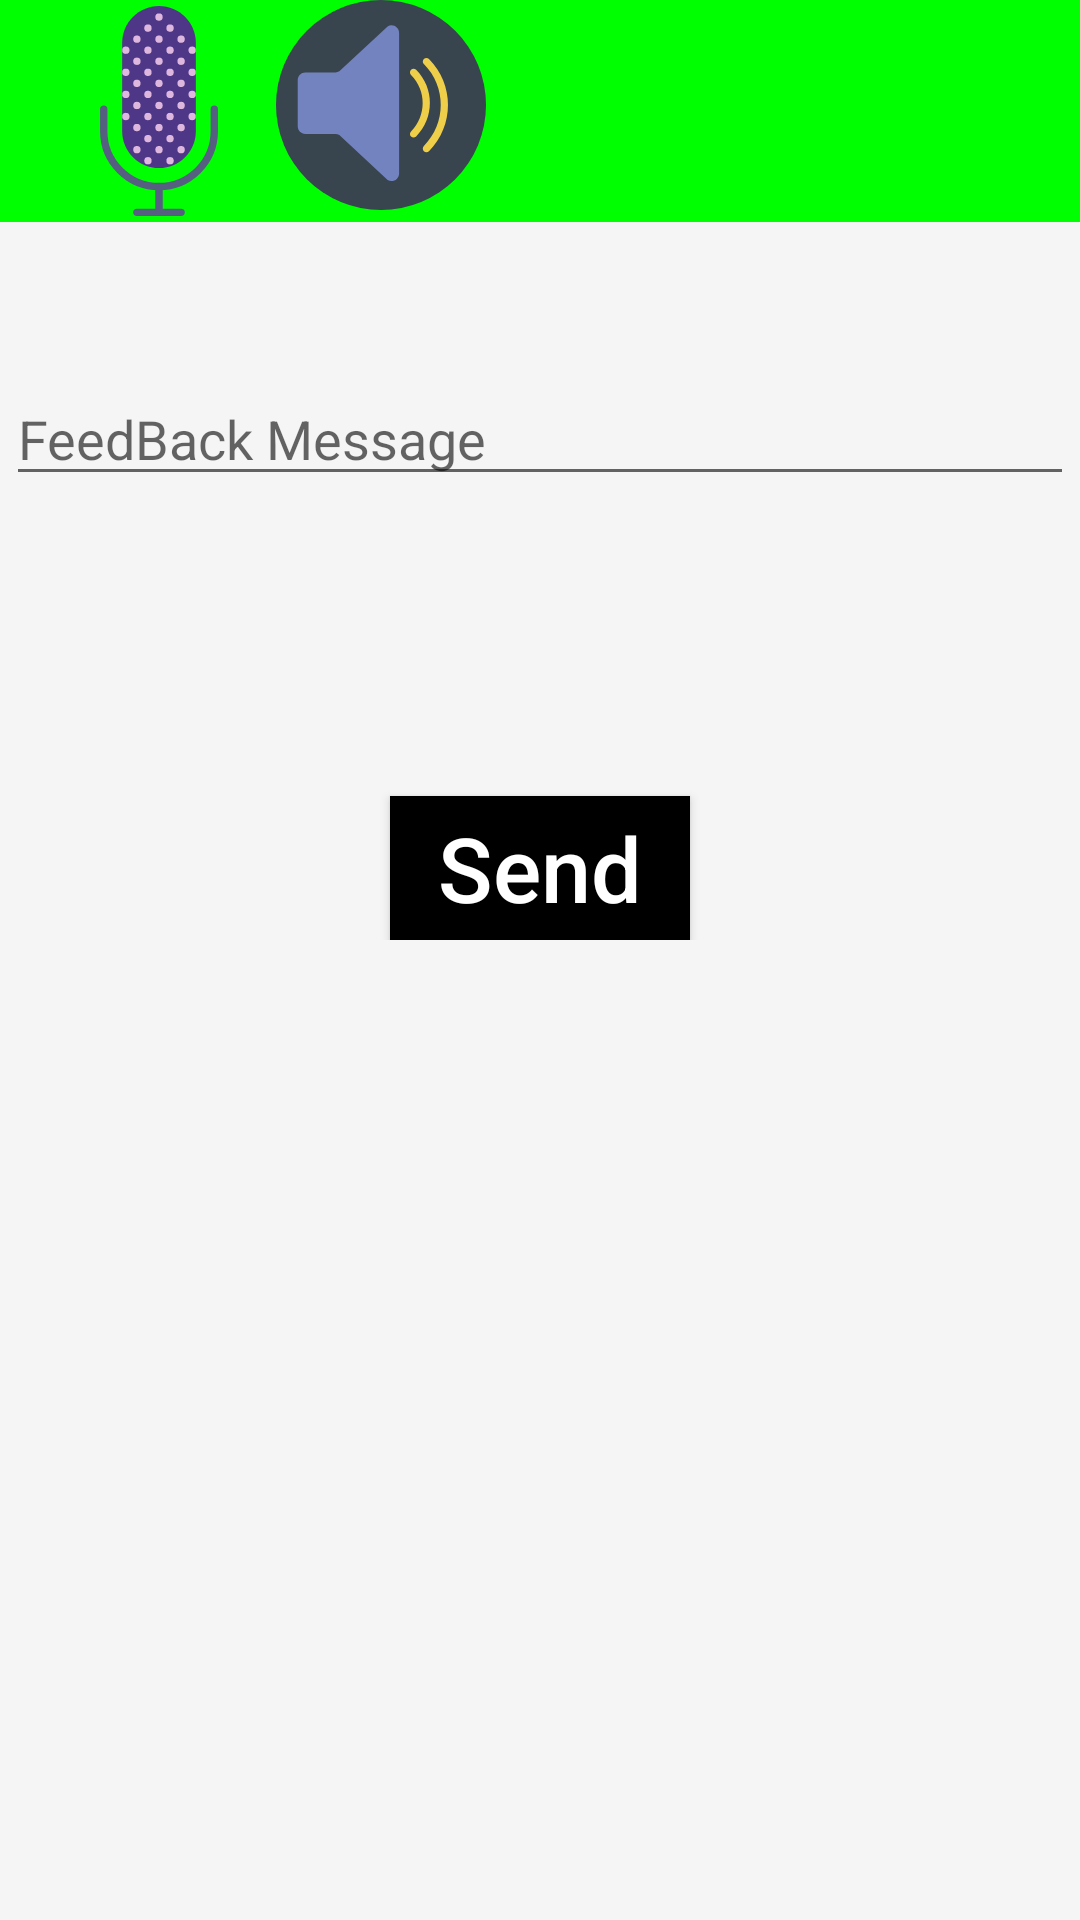

Icon bounding boxes for this 1080px×1920px phone screenshot, format box=[x1, y1, x2, y2]:
microphone: box=[100, 6, 218, 216]
speaker: box=[276, 0, 486, 210]
